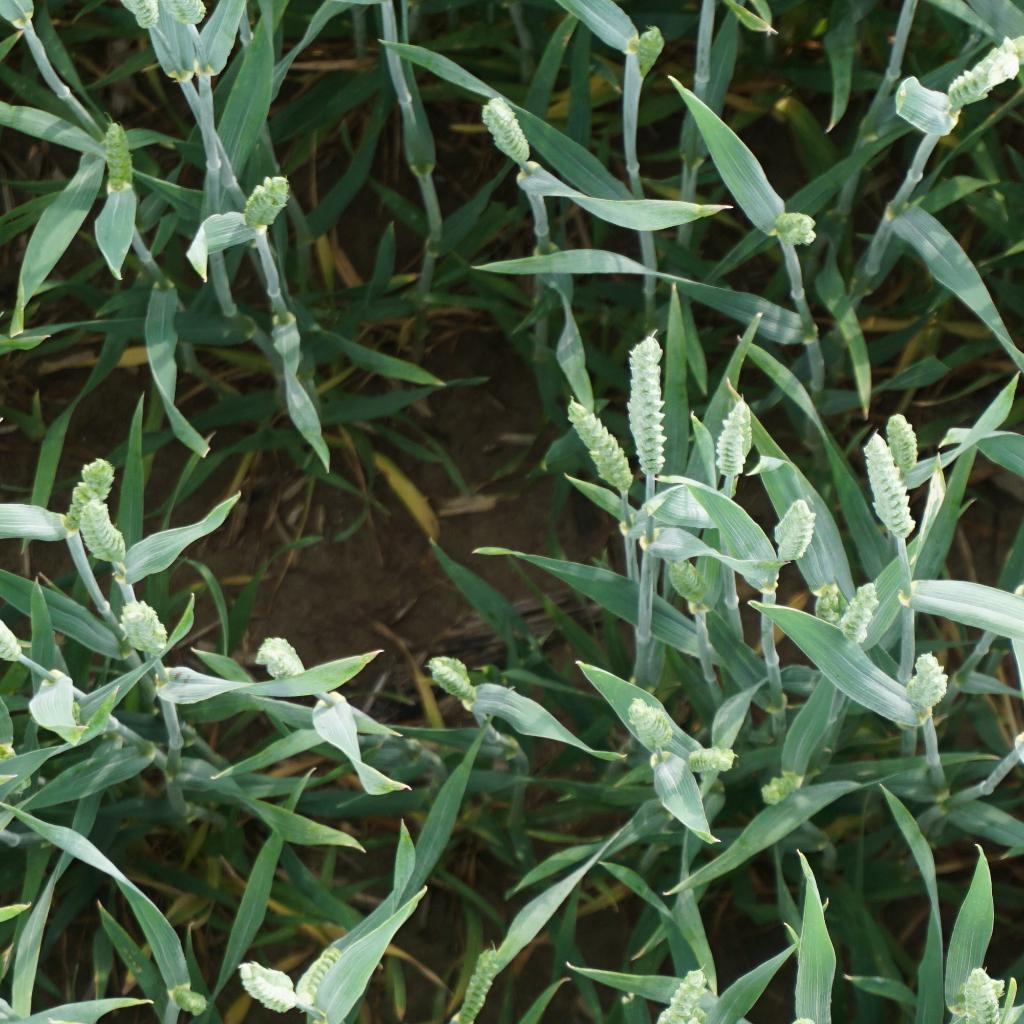0-0: (564, 396, 635, 493), (855, 434, 916, 542), (627, 326, 666, 482), (946, 38, 1024, 110), (64, 453, 117, 534), (480, 92, 530, 165), (75, 498, 131, 561), (458, 940, 499, 1024), (657, 546, 715, 604), (236, 960, 299, 1012), (773, 496, 820, 564), (838, 577, 884, 645), (243, 174, 295, 234), (652, 967, 707, 1023), (904, 649, 949, 715), (249, 631, 306, 681), (713, 401, 749, 477), (295, 946, 337, 1010), (622, 698, 675, 748), (123, 596, 167, 655), (103, 119, 138, 193), (880, 411, 918, 478), (961, 965, 1002, 1024), (426, 653, 474, 702), (766, 208, 819, 246), (628, 24, 662, 80), (685, 745, 739, 776), (759, 769, 800, 806), (154, 0, 207, 26), (171, 984, 209, 1016), (813, 587, 842, 628), (732, 412, 753, 461)
